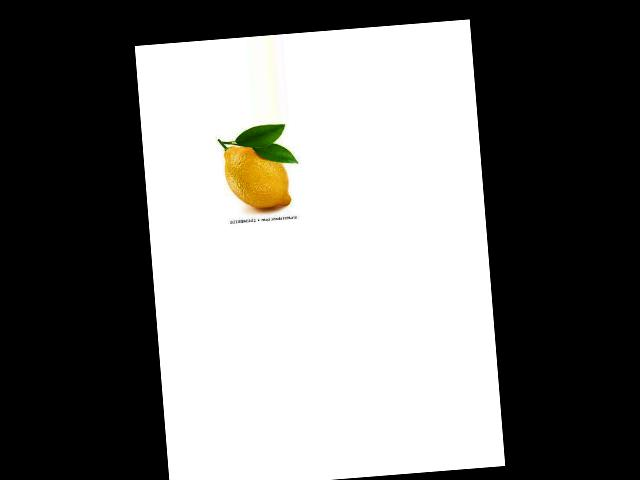lemon: (220, 138, 297, 211)
